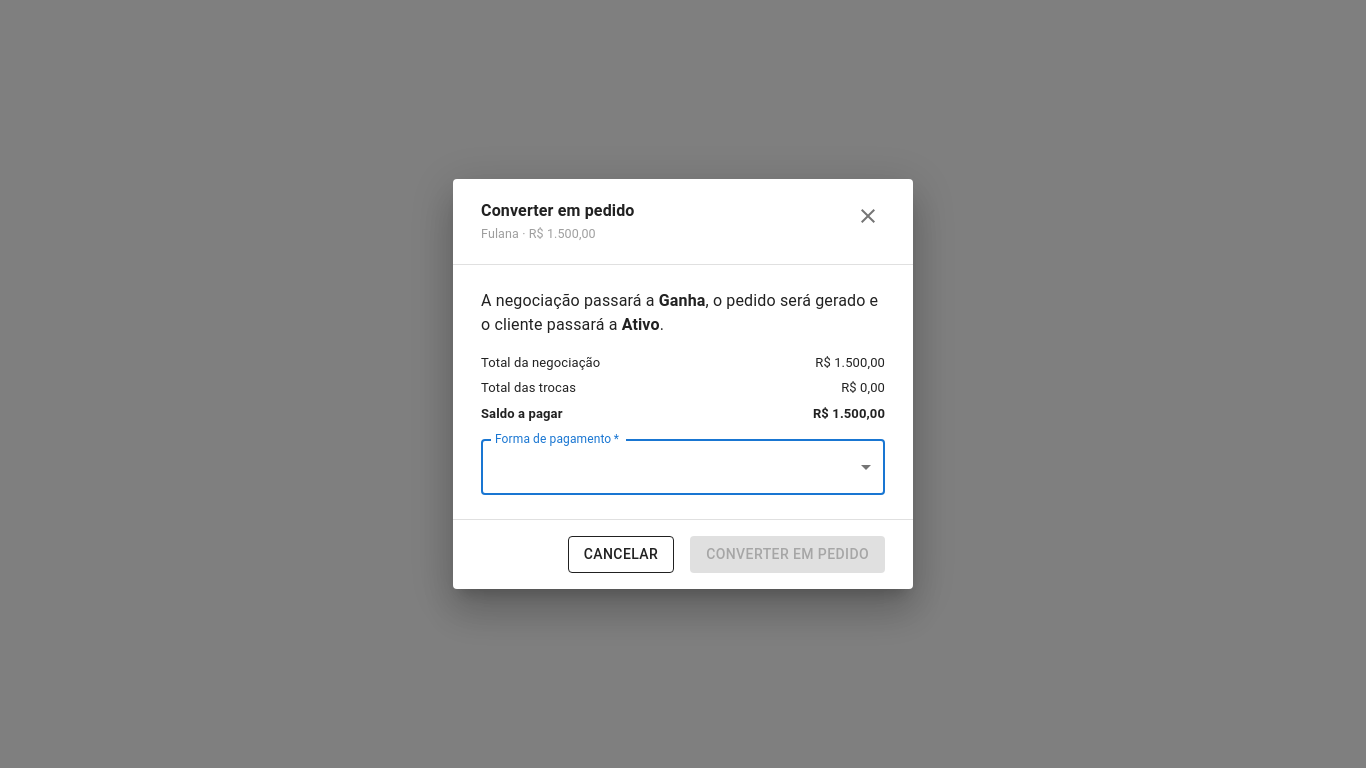
Test: ConvertToOrderModal › mostra a recusa do backend (saldo insuficiente) sem fechar o diálogo
Click the dropdown named "Forma de pagamento".
click(683, 467)  # box [481,439,885,495]
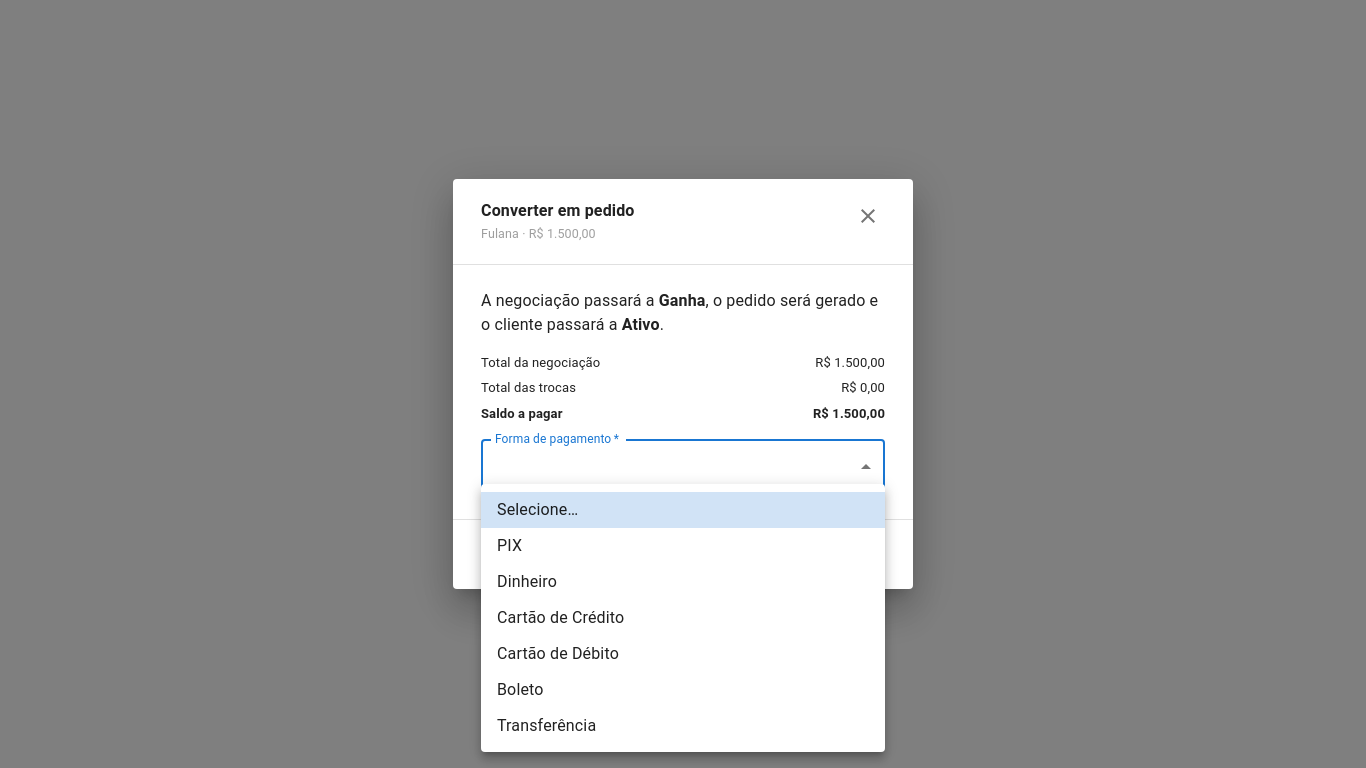
Click the option "PIX".
click(510, 546)  # box [497,536,522,555]
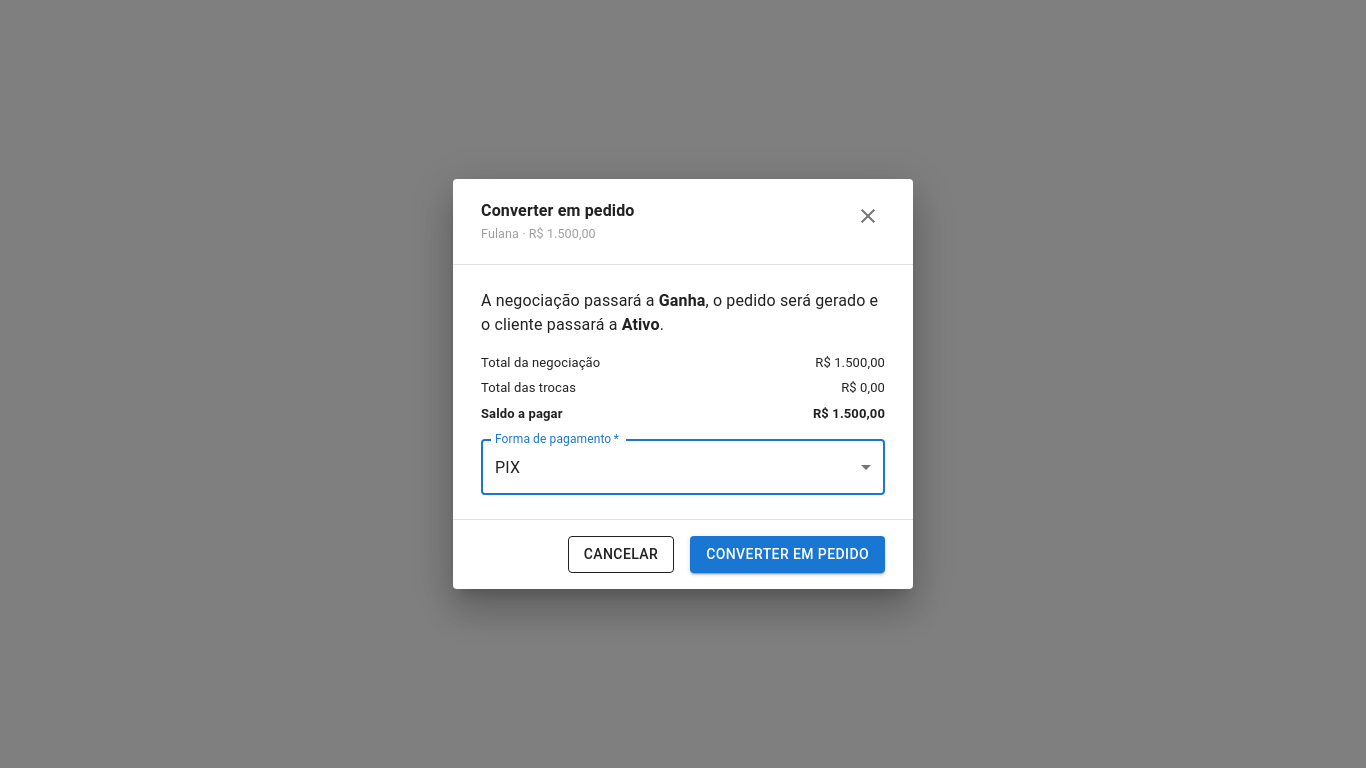
Click the button "Converter em pedido".
click(788, 555)  # box [690,536,885,573]
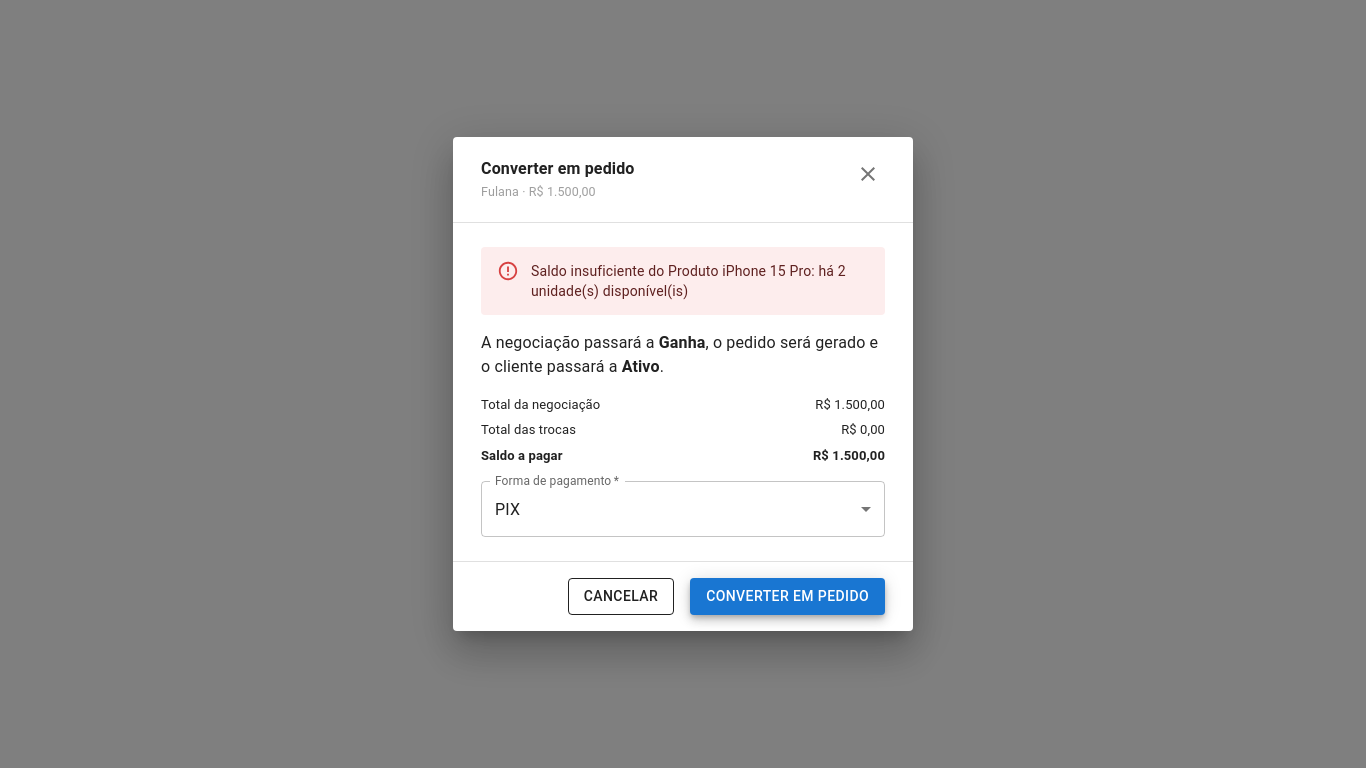
Expected: the button "Converter em pedido" is enabled, [690,578,885,615]
Expected: the message reads "Saldo insuficiente do Produto iPhone 15 Pro: há 2 unidade(s) disponível(is)", [531,263,846,299]
